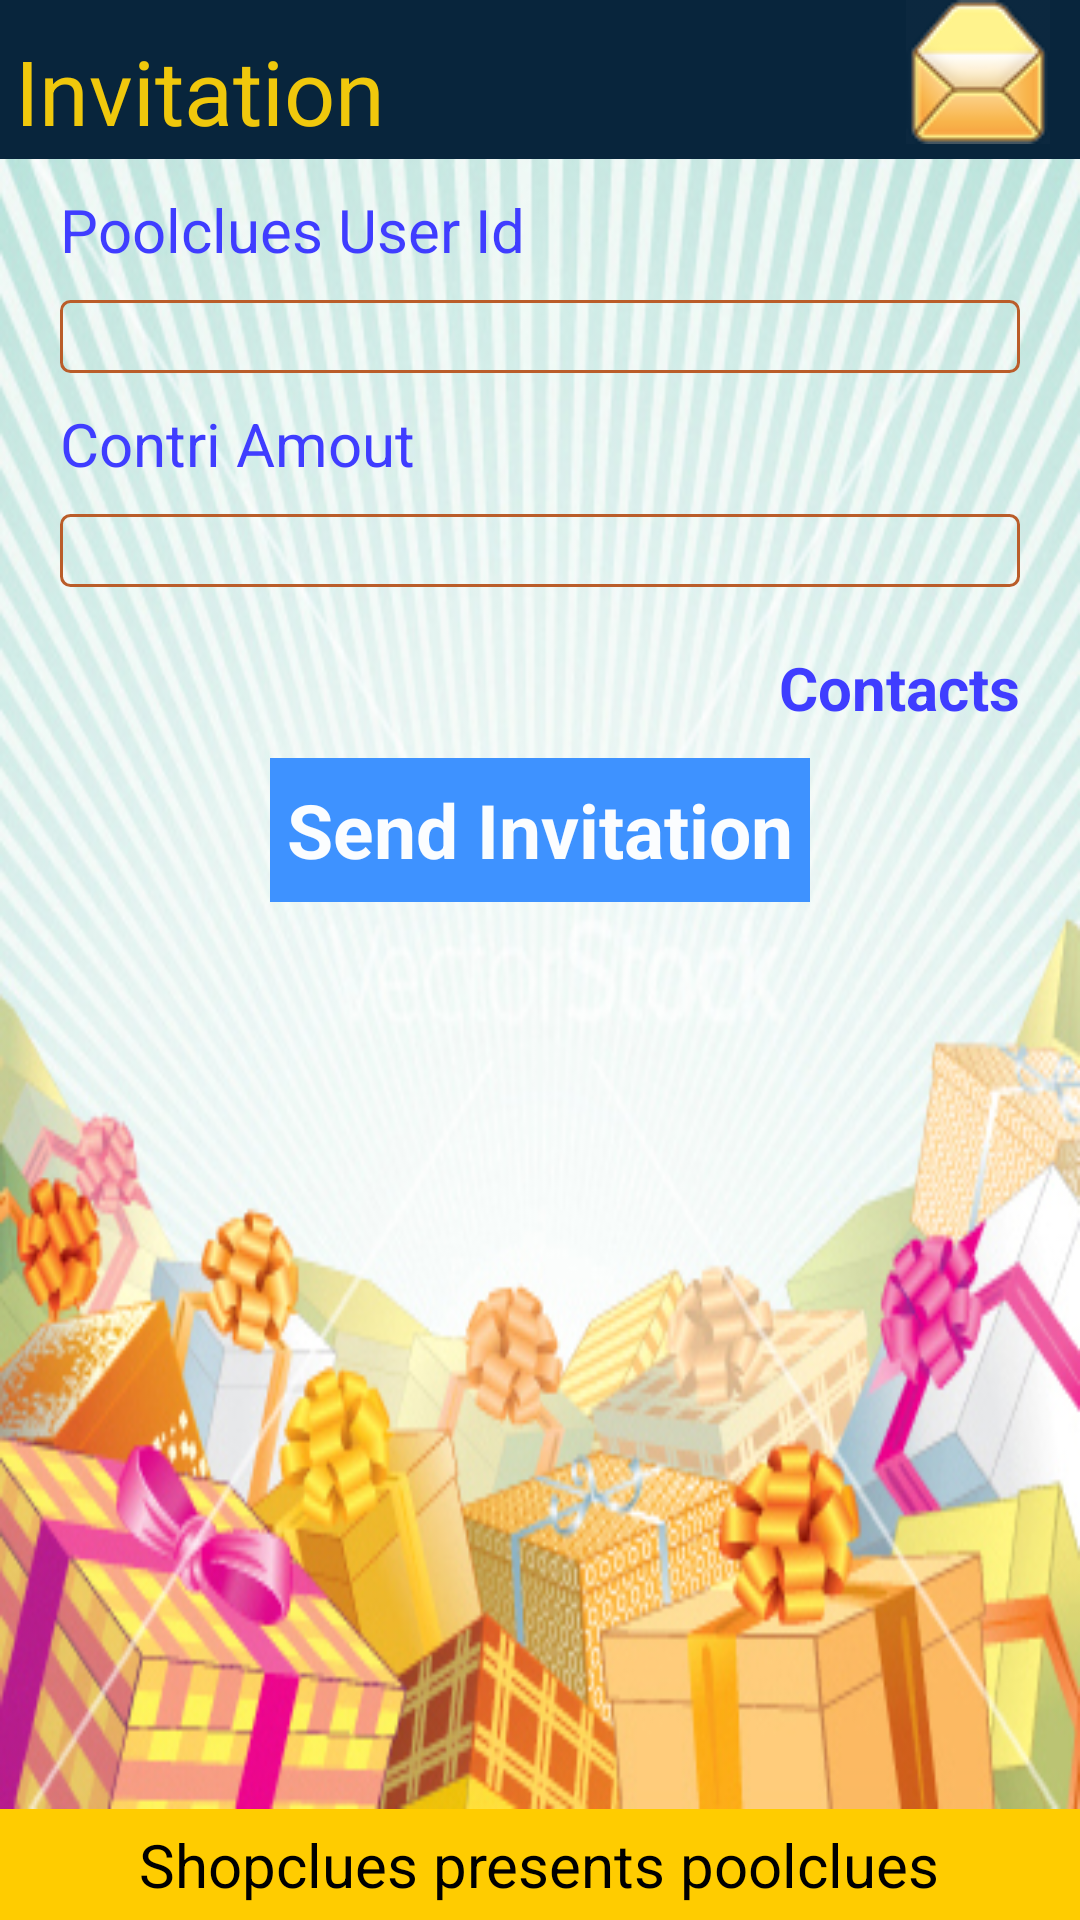

Named icons in this screenshot (1080x1920) and their bounding boxes, (x1, y1, x2, y2):
invite: (911, 0, 1045, 144)
